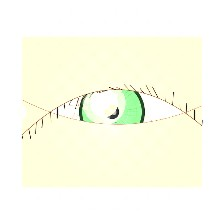corneal_ulcer: (81, 85, 127, 121)
